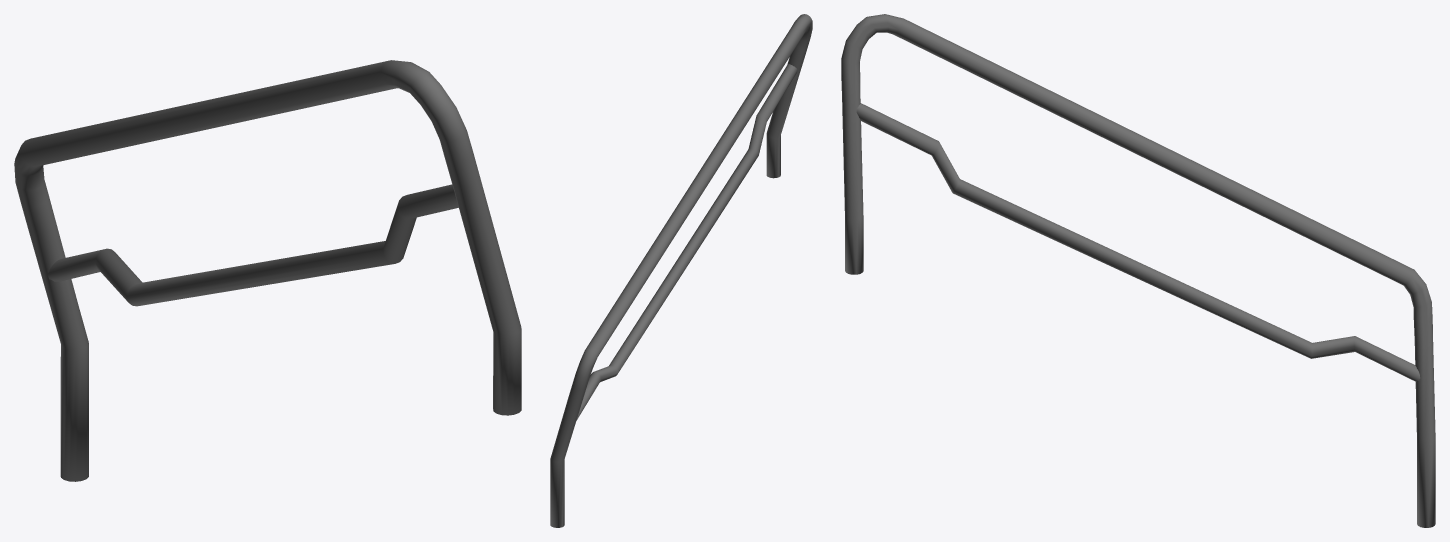
The model's file is sf_railing_incline_short_r.glb.
3 views of the same model, side by side, from view 1: azimuth 30°, elevation 25°; view 2: azimuth 150°, elevation 25°; view 3: azimuth 270°, elevation 25° (orthographic). The views are drawn at different scales.
Visible parts, largest first — view 1: Prop_Rail_Incline_Short_R; view 2: Prop_Rail_Incline_Short_R; view 3: Prop_Rail_Incline_Short_R.
Part boxes in pixels (x1,y1,x2,y2): Prop_Rail_Incline_Short_R: [14, 60, 521, 481]; Prop_Rail_Incline_Short_R: [550, 14, 812, 527]; Prop_Rail_Incline_Short_R: [841, 14, 1435, 527].
Size of the model in its own units: 0.2545 by 1.7 by 1.89.
1 material, 1 textured.
